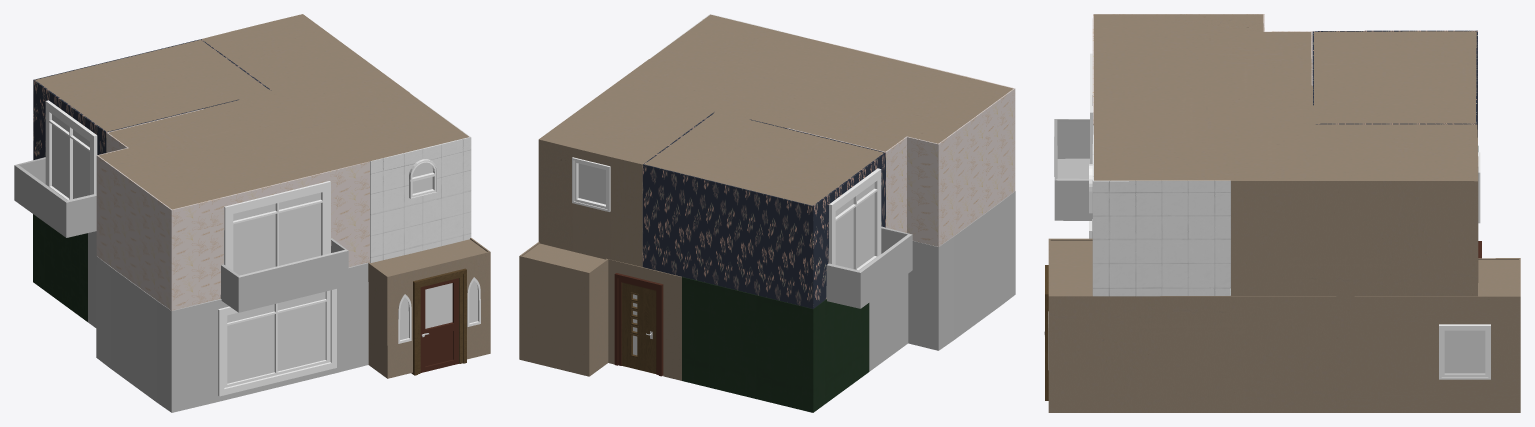
The model's file is inside_house.fbx.
3 views of the same model, side by side, from view 1: azimuth 30°, elevation 25°; view 2: azimuth 150°, elevation 25°; view 3: azimuth 270°, elevation 25° (orthographic). The views are drawn at different scales.
Visible parts, largest first — view 1: top ceiling, main_bedroom_walls, living_room_walls, bathroom_walls, entryway_walls, living_room_slidoor_glass.001, bedroom_walls, main_bedroom_slidoor_glass.001, kitchen_walls, living_room_slidoor.001, main_bedroom_slidoor.001, front_door.001 (+6 smaller); view 2: top ceiling, bedroom_walls, kitchen_walls, living_room_walls, main_bedroom_walls, laundry_walls, hallway_walls, back_door.001, bedroom_slidoor_glass.001, bedroom_slidoor.001, back_door_frame.001, ceiling (+2 smaller); view 3: top ceiling, entryway_walls, hallway_walls, laundry_walls, bathroom_walls, main_bedroom_walls, ceiling, laundry_window_glass.001, laundry_window.001, bedroom_walls, front_door_frame.001.
Boxes of the visible parts, bbox=[...] form: top ceiling: bbox=[35, 14, 468, 209]; main_bedroom_walls: bbox=[96, 108, 369, 312]; living_room_walls: bbox=[88, 231, 368, 412]; bathroom_walls: bbox=[370, 93, 471, 262]; entryway_walls: bbox=[368, 238, 490, 378]; living_room_slidoor_glass.001: bbox=[227, 291, 325, 383]; bedroom_walls: bbox=[14, 39, 271, 237]; main_bedroom_slidoor_glass.001: bbox=[233, 192, 320, 275]; kitchen_walls: bbox=[33, 214, 87, 321]; living_room_slidoor.001: bbox=[218, 289, 336, 396]; main_bedroom_slidoor.001: bbox=[224, 181, 330, 270]; front_door.001: bbox=[420, 278, 458, 372]; top ceiling: bbox=[540, 14, 1013, 205]; bedroom_walls: bbox=[642, 112, 912, 308]; kitchen_walls: bbox=[605, 258, 869, 412]; living_room_walls: bbox=[869, 191, 1015, 371]; main_bedroom_walls: bbox=[787, 39, 1015, 246]; laundry_walls: bbox=[519, 242, 608, 376]; hallway_walls: bbox=[538, 59, 699, 266]; back_door.001: bbox=[621, 282, 656, 373]; bedroom_slidoor_glass.001: bbox=[835, 183, 874, 268]; bedroom_slidoor.001: bbox=[828, 168, 881, 270]; back_door_frame.001: bbox=[614, 273, 663, 376]; ceiling: bbox=[523, 243, 605, 271]; top ceiling: bbox=[1094, 14, 1476, 180]; entryway_walls: bbox=[1048, 238, 1354, 412]; hallway_walls: bbox=[1231, 124, 1478, 296]; laundry_walls: bbox=[1351, 258, 1520, 412]; bathroom_walls: bbox=[1092, 125, 1230, 296]; main_bedroom_walls: bbox=[1054, 14, 1312, 220]; ceiling: bbox=[1050, 241, 1518, 295]; laundry_window_glass.001: bbox=[1444, 330, 1485, 373]; laundry_window.001: bbox=[1439, 324, 1490, 379]; bedroom_walls: bbox=[1312, 30, 1477, 137]; front_door_frame.001: bbox=[1045, 265, 1048, 400].
Size of the model in its own units: 903 by 578 by 1067.
